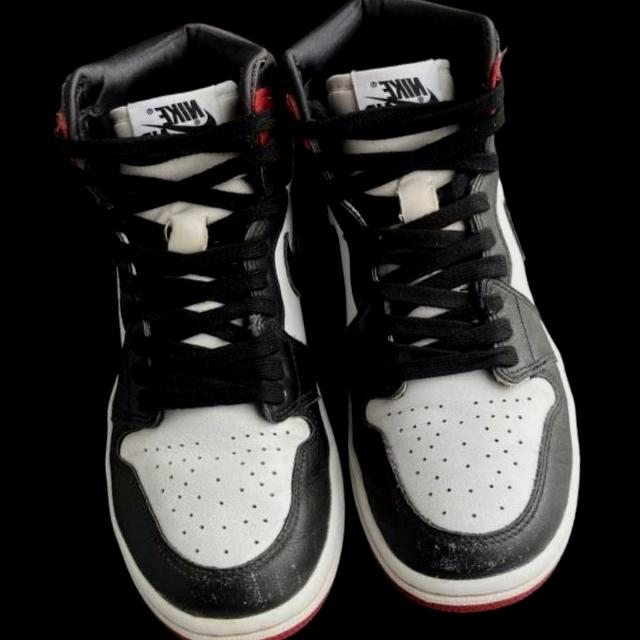nike_original_jordan: (271, 0, 604, 625), (38, 7, 361, 640)
